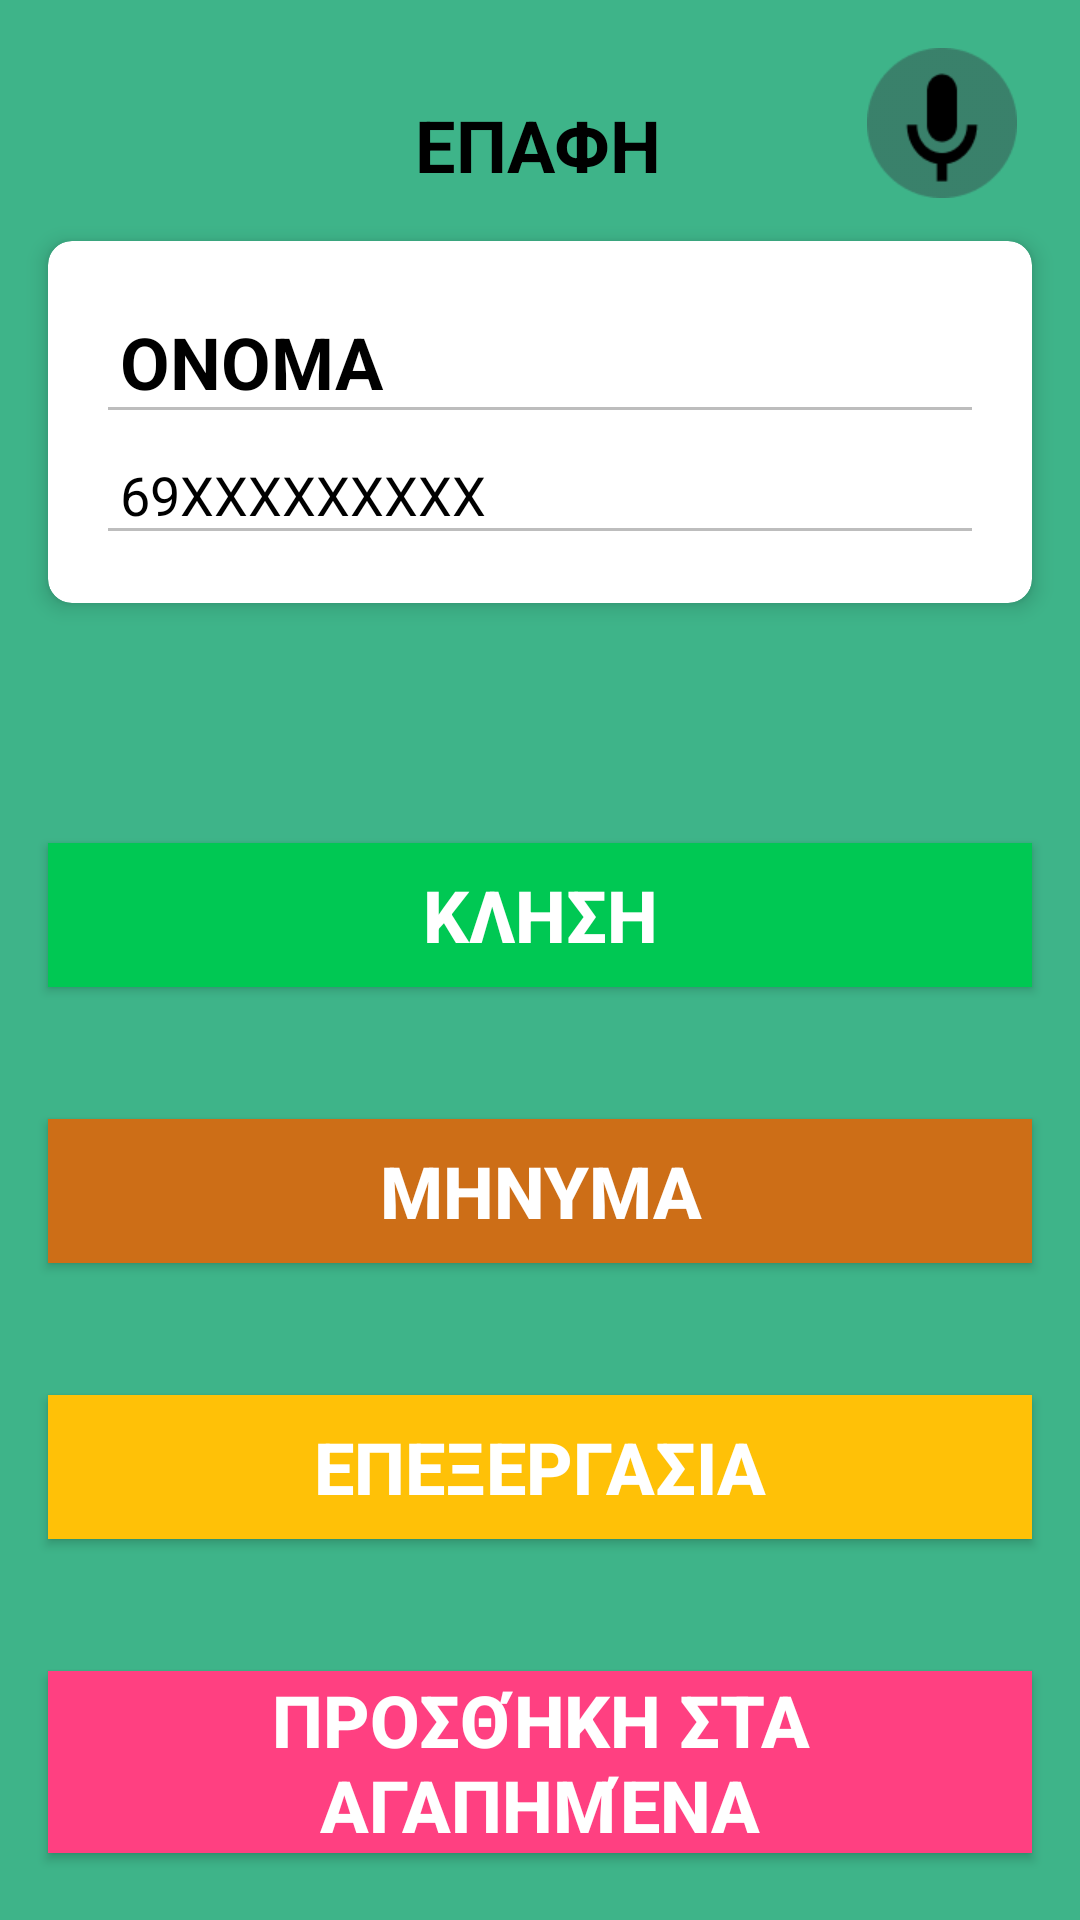

Screen size 1080w x 1920h. Icon name, then its center in pixels as (x=x, y=y):
Μικρόφωνο: (x=942, y=123)
